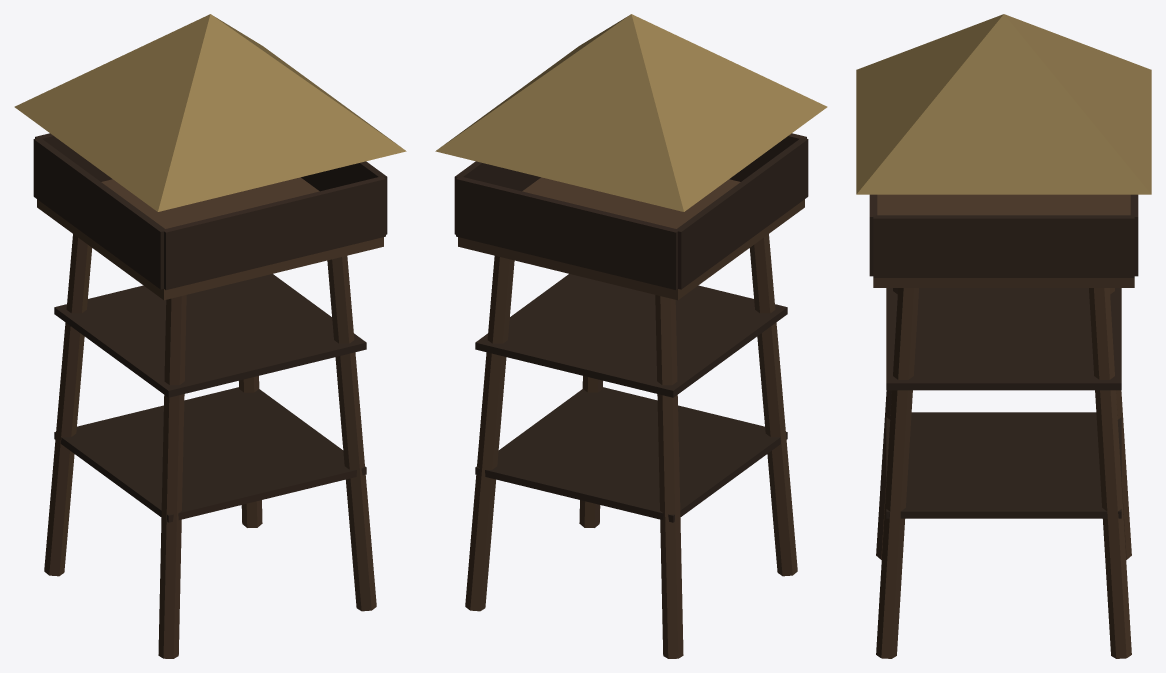
The model's file is walk_tidebound_tower.glb.
3 views of the same model, side by side, from view 1: azimuth 30°, elevation 25°; view 2: azimuth 150°, elevation 25°; view 3: azimuth 270°, elevation 25° (orthographic). The views are drawn at different scales.
Parts seen in each view (by area): view 1: walk_tidebound_tower, walk_tidebound_tower_roof; view 2: walk_tidebound_tower, walk_tidebound_tower_roof; view 3: walk_tidebound_tower, walk_tidebound_tower_roof.
Boxes of the visible parts, <box> form: walk_tidebound_tower: <box>33,133,387,658</box>; walk_tidebound_tower_roof: <box>14,14,406,211</box>; walk_tidebound_tower: <box>454,133,808,658</box>; walk_tidebound_tower_roof: <box>435,14,827,211</box>; walk_tidebound_tower: <box>869,194,1138,658</box>; walk_tidebound_tower_roof: <box>856,14,1151,194</box>.
Size of what is drawn, in the model's own units: 4.53 by 10.01 by 4.53.
Materials: 1 (1 with a texture image).
